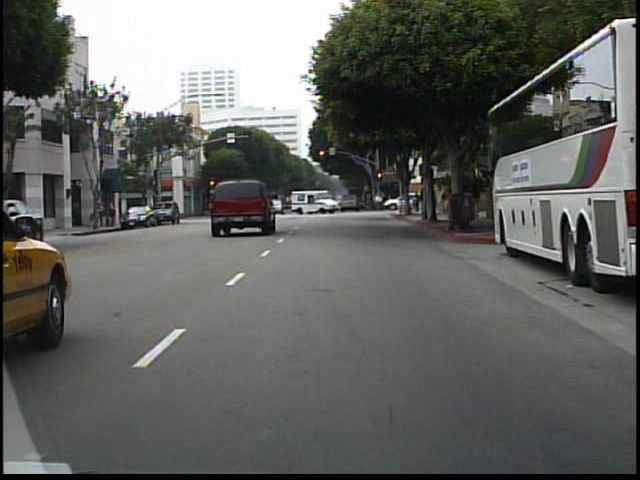person: (438, 183, 451, 220)
